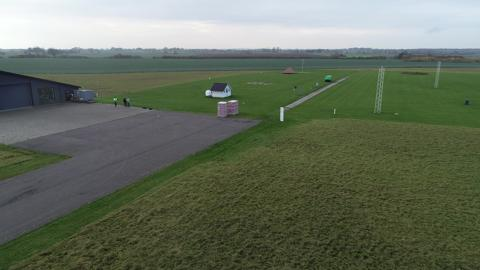RockwoolPallet: (226, 100, 240, 117)
